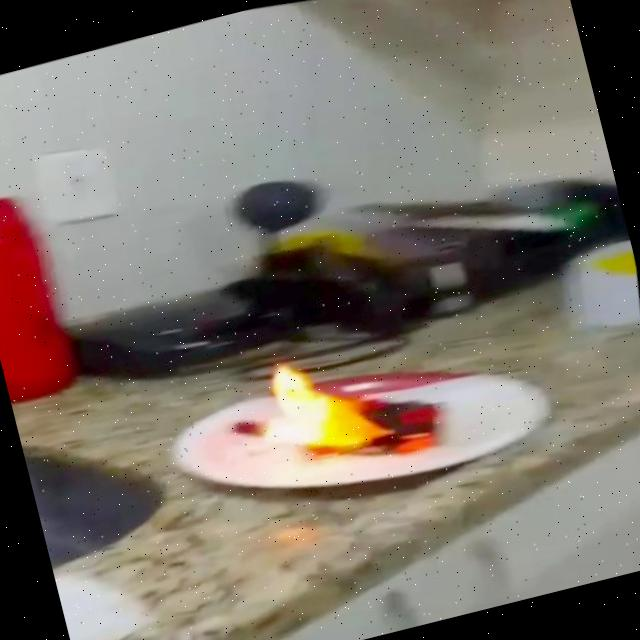fire: (243, 312, 477, 496)
